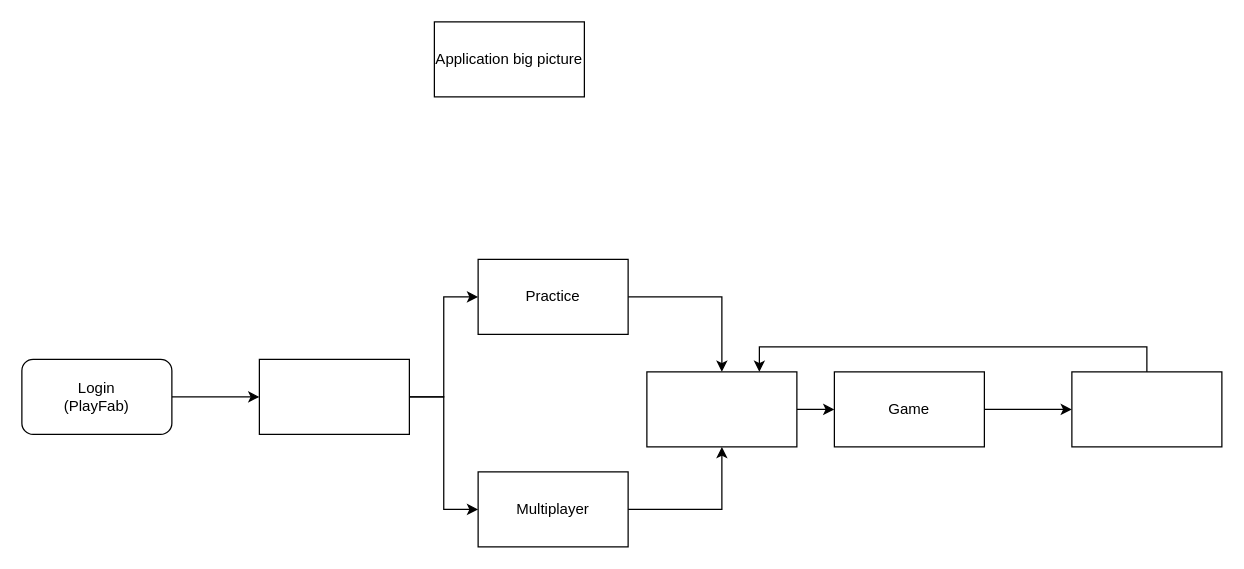
Some shapes in this 1244 by 569 pixel diagram are drawn without their labels. Each missing label, with the box of its shape:
Finish: (1071, 371, 1222, 447)
Menu: (258, 358, 409, 434)
Room: (646, 371, 797, 447)
